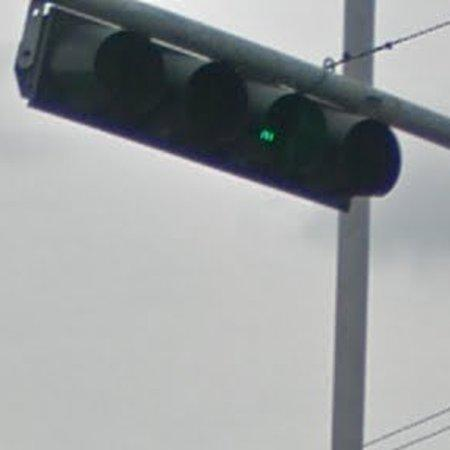traffic lights: (15, 1, 401, 210)
